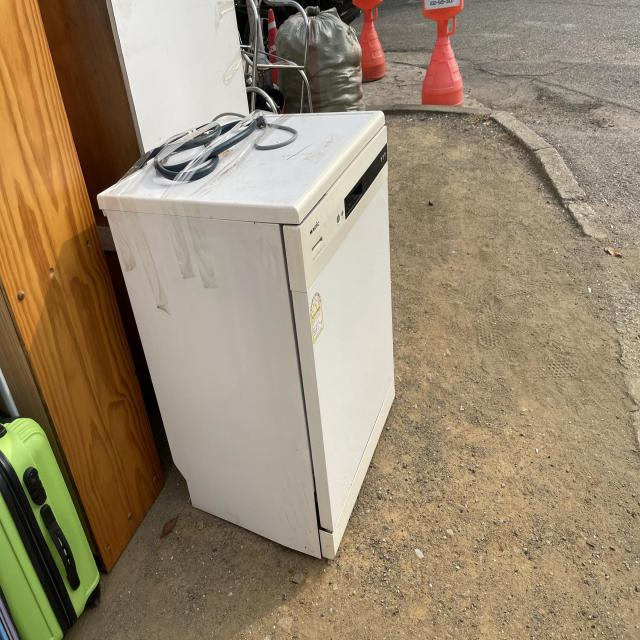refrigerator: (95, 108, 398, 563)
